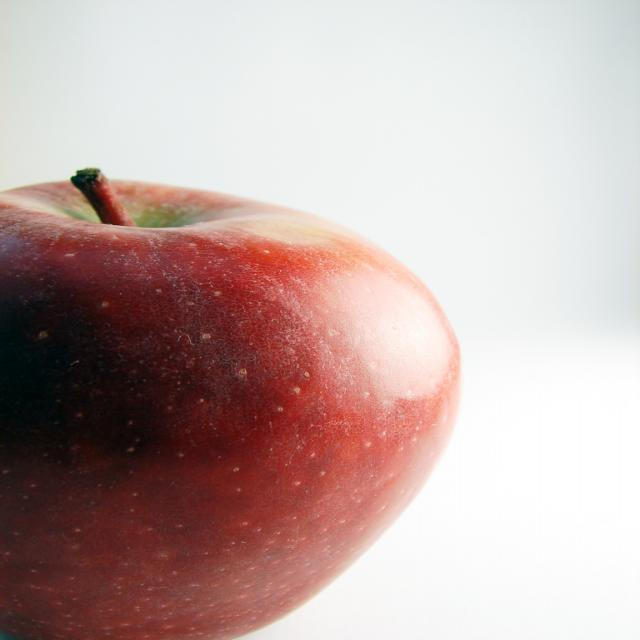Apple: (1, 162, 464, 640)
